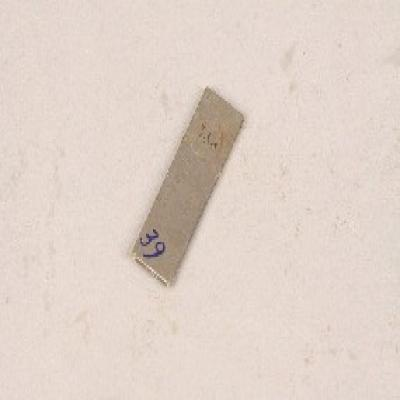technique: (131, 88, 244, 288)
